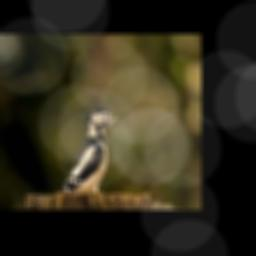Woodpecker: (62, 109, 121, 193)
